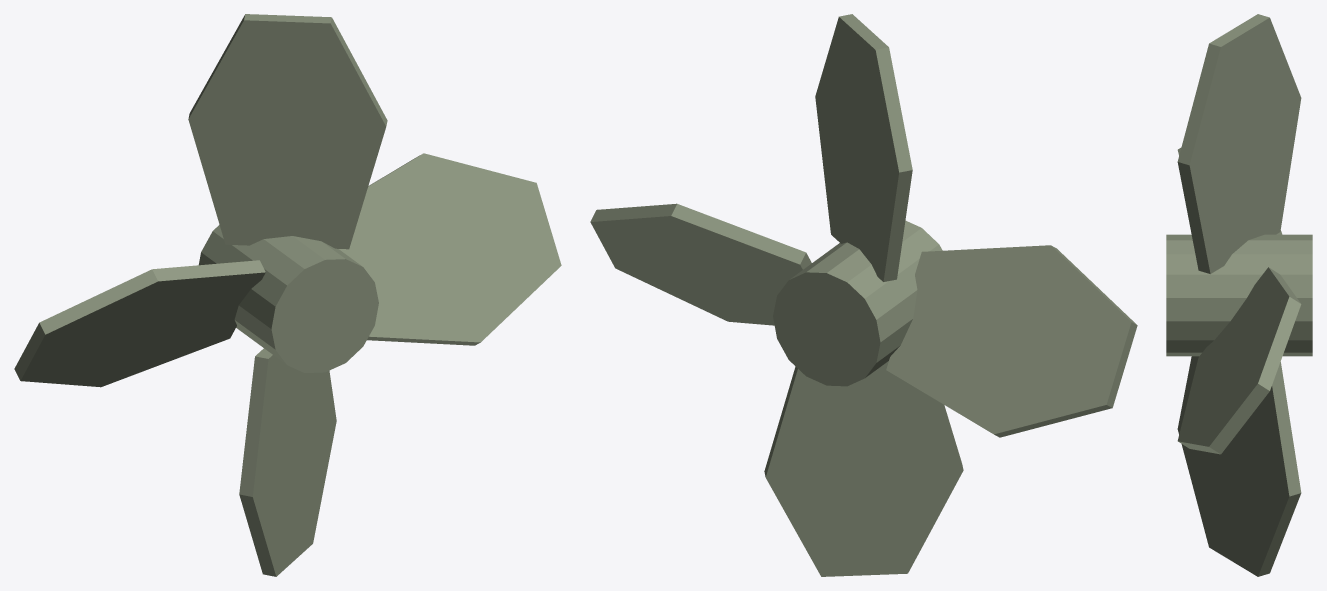
File: propeller_visual.glb
3 views of the same model, side by side, from view 1: azimuth 30°, elevation 25°; view 2: azimuth 150°, elevation 25°; view 3: azimuth 270°, elevation 25° (orthographic).
Visible parts, largest first — view 1: propeller; view 2: propeller; view 3: propeller.
Boxes of the visible parts, bbox=[...] form: propeller: bbox=[14, 14, 561, 576]; propeller: bbox=[590, 14, 1137, 576]; propeller: bbox=[1166, 14, 1312, 576].
Bounding box in the file's own units: 2.4 × 2.4 × 0.6.
